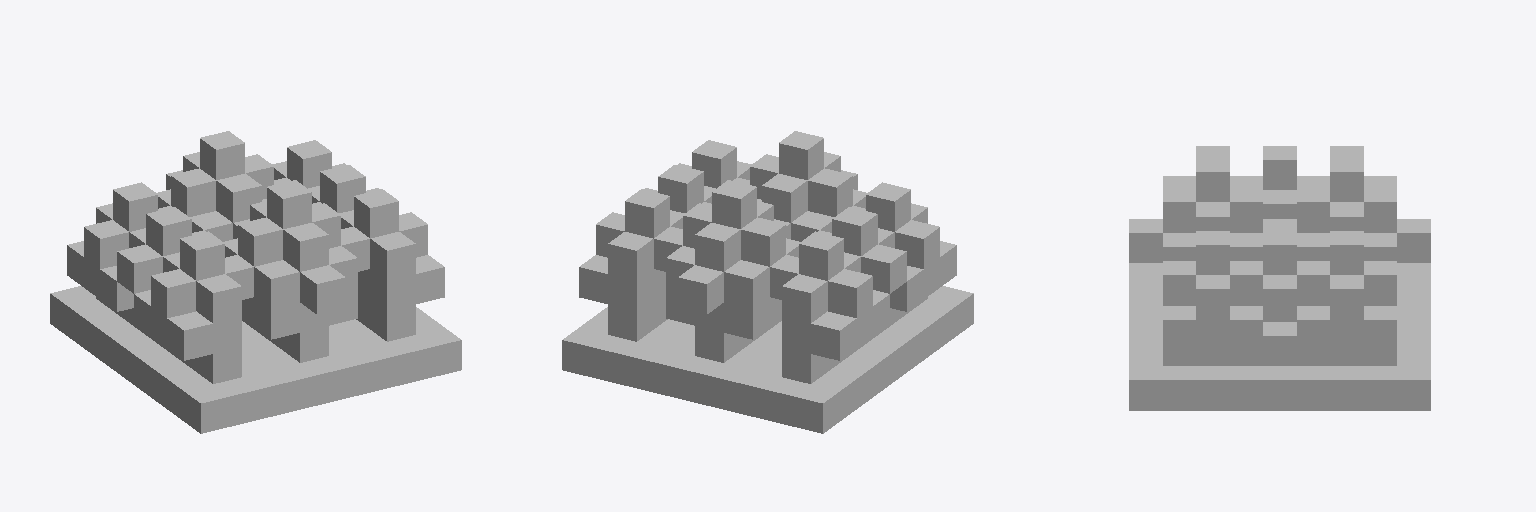
The model's file is Cabbage 3.obj.
3 renders of one model, left to right at view 1: azimuth 30°, elevation 25°; view 2: azimuth 150°, elevation 25°; view 3: azimuth 270°, elevation 25°, orthographic.
Parts seen in each view (by area): view 1: object 1; view 2: object 1; view 3: object 1.
Part boxes in pixels (x1,y1,x2,y2): object 1: (50,131,461,433); object 1: (562,131,973,433); object 1: (1129,146,1430,410).
Size of the model in its own units: 0.9 by 0.6 by 0.9.